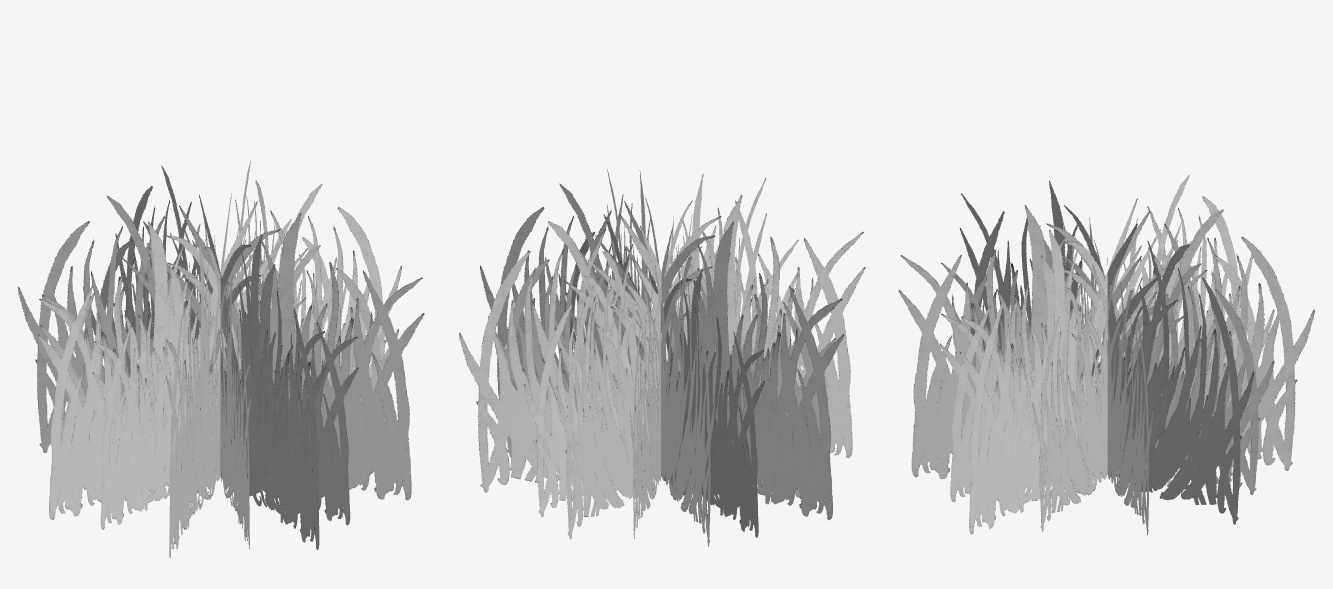
The model's file is Grass.fbx.
3 views of the same model, side by side, from view 1: azimuth 30°, elevation 25°; view 2: azimuth 150°, elevation 25°; view 3: azimuth 270°, elevation 25° (orthographic).
Visible parts, largest first — view 1: Grass; view 2: Grass; view 3: Grass.
Part boxes in pixels (<box>): Grass: <box>18,161,424,557</box>; Grass: <box>459,169,865,546</box>; Grass: <box>898,174,1314,535</box>.
Size of the model in its own units: 200 by 200 by 200.
